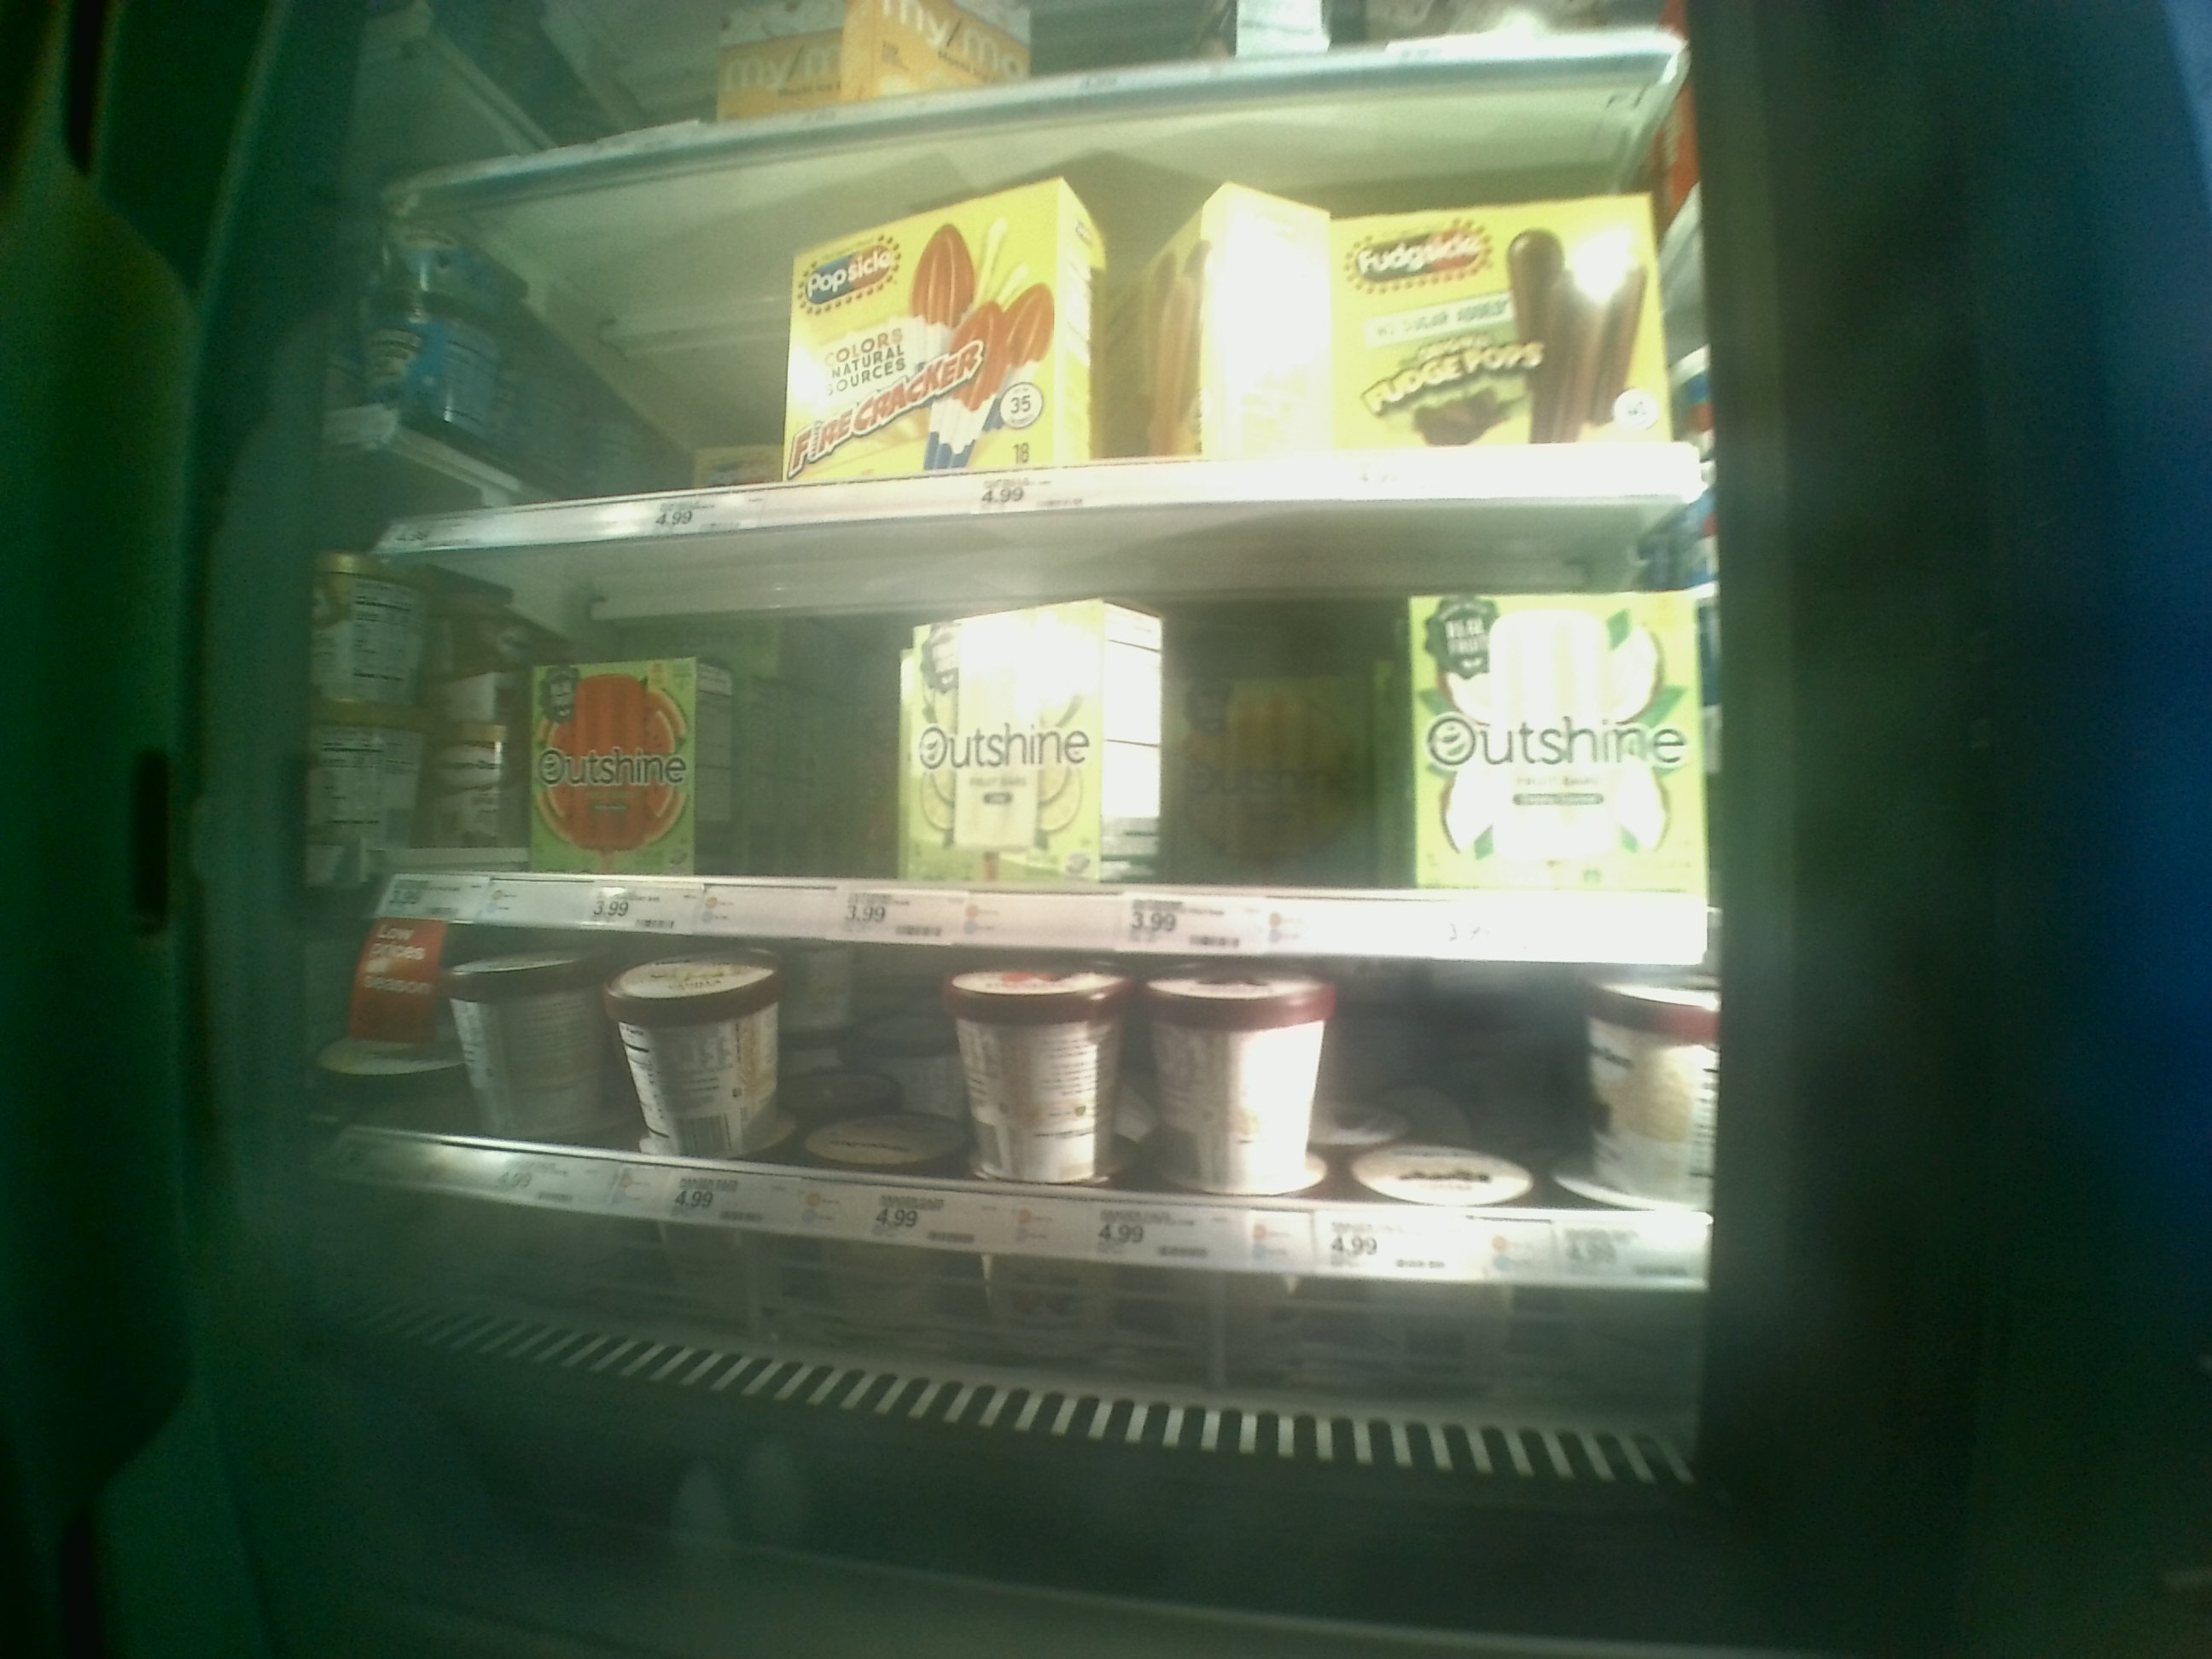shelf: (376, 924, 1724, 1382), (388, 82, 1695, 505), (388, 551, 1714, 967)
